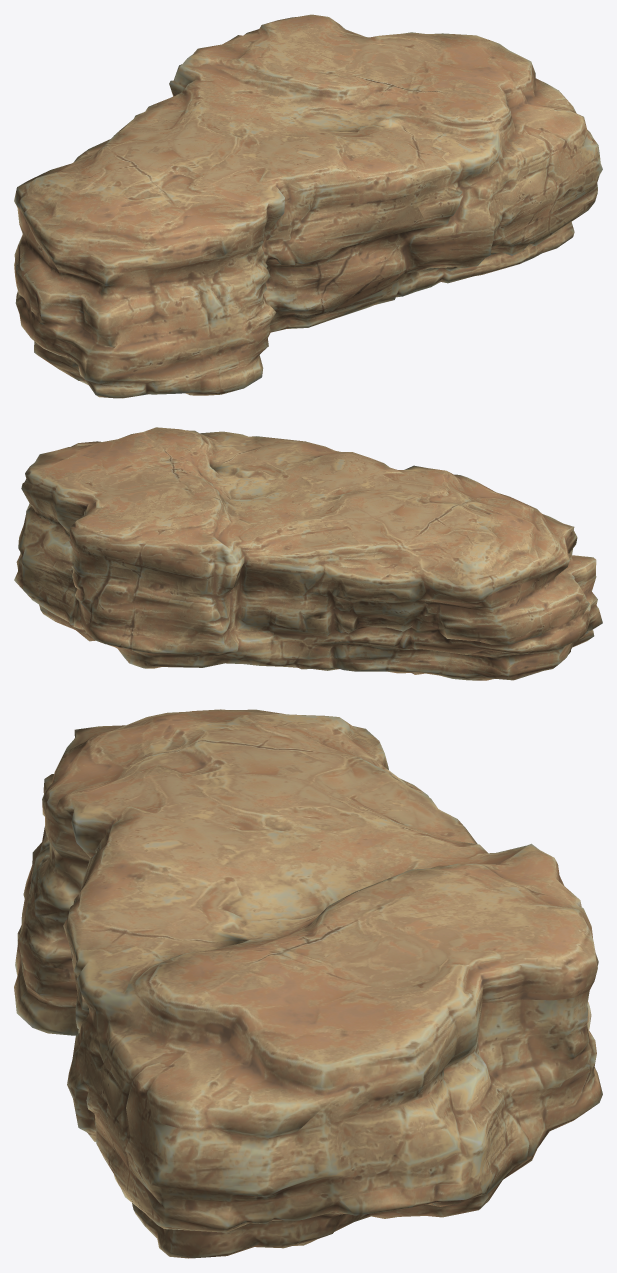
Rendered from DestRock2.fbx.
The picture shows the model from 3 angles, top to bottom: view 1: azimuth 30°, elevation 25°; view 2: azimuth 150°, elevation 25°; view 3: azimuth 270°, elevation 25°; orthographic projection. The views are drawn at different scales.
Visible parts, largest first — view 1: HL_Desert_Rock_B.001; view 2: HL_Desert_Rock_B.001; view 3: HL_Desert_Rock_B.001.
Boxes of the visible parts, x1,y1,x2,y2 form: HL_Desert_Rock_B.001: (14, 14, 602, 398); HL_Desert_Rock_B.001: (14, 427, 602, 680); HL_Desert_Rock_B.001: (14, 709, 602, 1258).
Bounding box in the file's own units: 2355 × 723 × 1419.
1 material, 1 textured.
